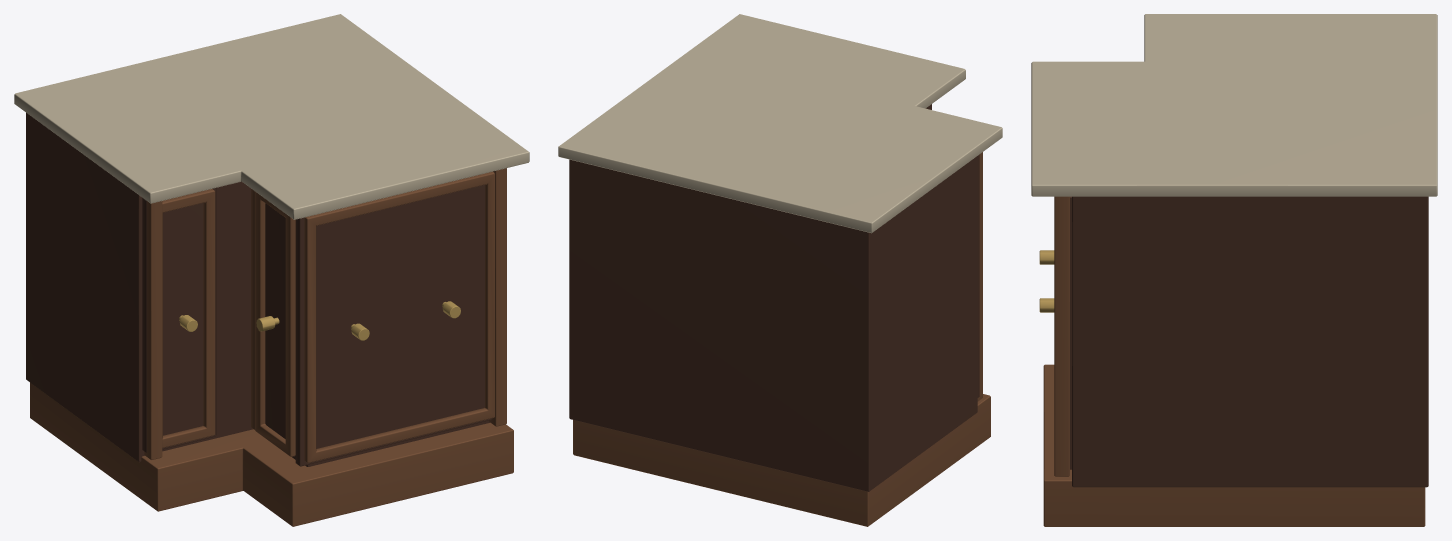
The model's file is rpg-mansion-kitchen-corner-base-01.glb.
3 views of the same model, side by side, from view 1: azimuth 30°, elevation 25°; view 2: azimuth 150°, elevation 25°; view 3: azimuth 270°, elevation 25° (orthographic). The views are drawn at different scales.
Parts seen in each view (by area): view 1: rpg-mansion-kitchen-corner-base-01; view 2: rpg-mansion-kitchen-corner-base-01; view 3: rpg-mansion-kitchen-corner-base-01.
Boxes of the visible parts, bbox=[...] form: rpg-mansion-kitchen-corner-base-01: bbox=[14, 14, 529, 526]; rpg-mansion-kitchen-corner-base-01: bbox=[558, 14, 1002, 526]; rpg-mansion-kitchen-corner-base-01: bbox=[1031, 14, 1437, 526].
Bounding box in the file's own units: 0.9 × 0.85 × 0.9.
